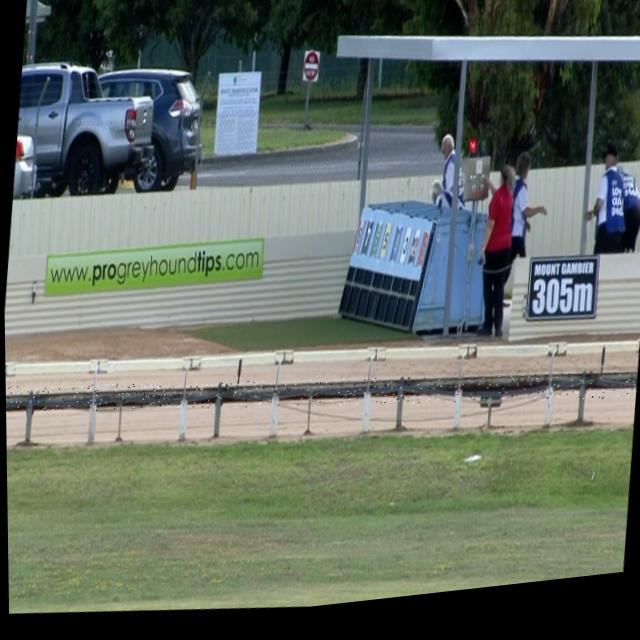rail: (5, 387, 635, 412)
